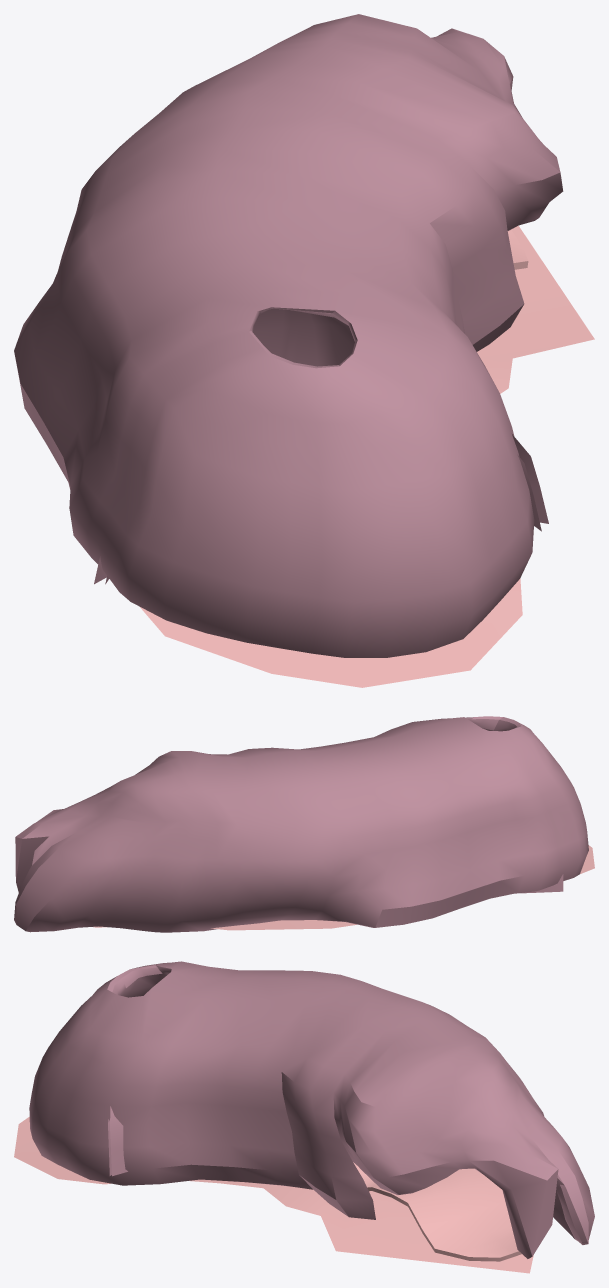
Rendered from TutoCave.fbx.
The picture shows the model from 3 angles, top to bottom: view 1: azimuth 30°, elevation 25°; view 2: azimuth 150°, elevation 25°; view 3: azimuth 270°, elevation 25°; orthographic projection. The views are drawn at different scales.
Visible parts, largest first — view 1: ToitCave, Ground1.1 TutoCave, Circle; view 2: ToitCave, Ground1.1 TutoCave; view 3: ToitCave, Ground1.1 TutoCave, PolyShape__1__2.001, Circle.
Boxes of the visible parts, x1,y1,x2,y2 form: ToitCave: (14,14,563,657); Ground1.1 TutoCave: (140,225,594,687); Circle: (94,308,548,584); ToitCave: (14,716,588,932); Ground1.1 TutoCave: (93,845,594,930); ToitCave: (29,961,594,1258); Ground1.1 TutoCave: (14,1117,533,1273); PolyShape__1__2.001: (354,1163,521,1261); Circle: (108,1106,127,1176).
Bounding box in the file's own units: 86.87 × 36.09 × 105.
